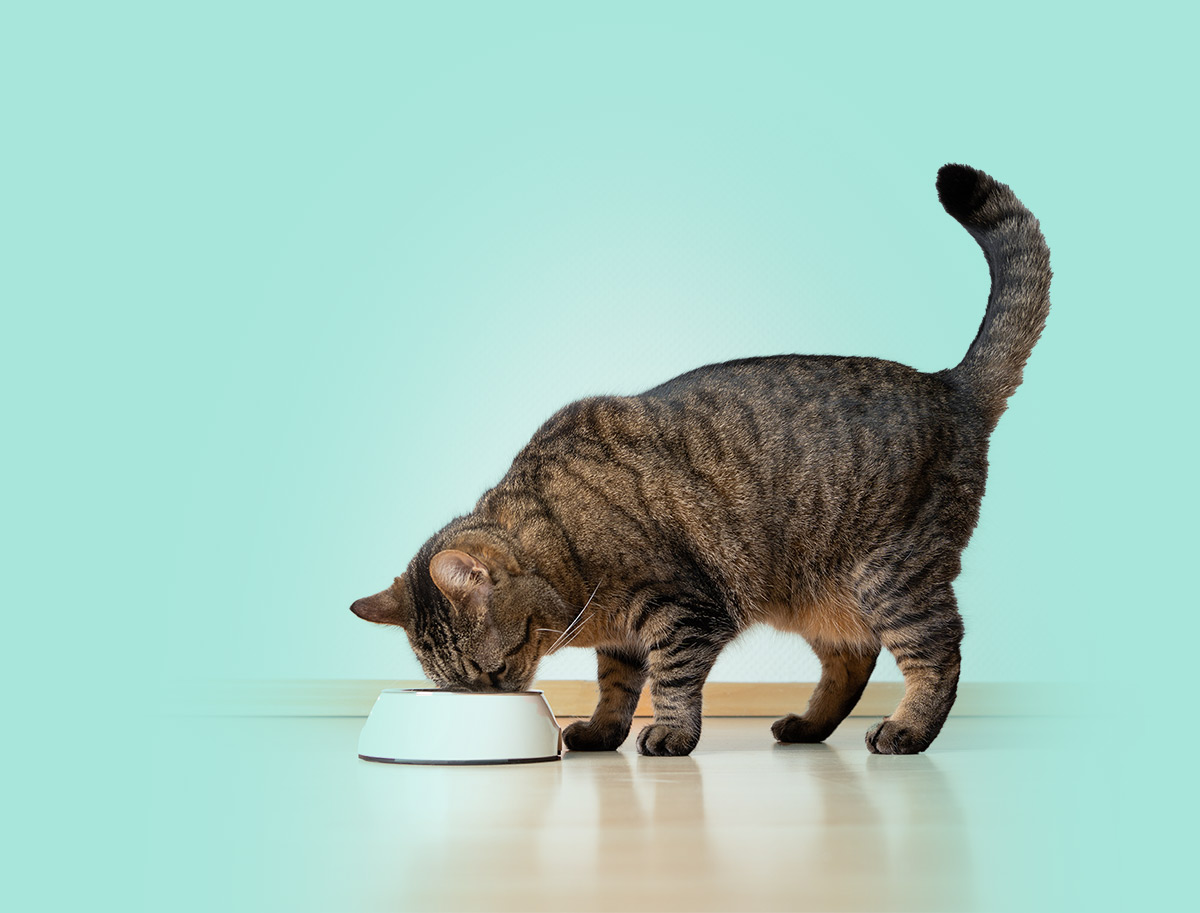Cat: (337, 159, 1052, 766)
